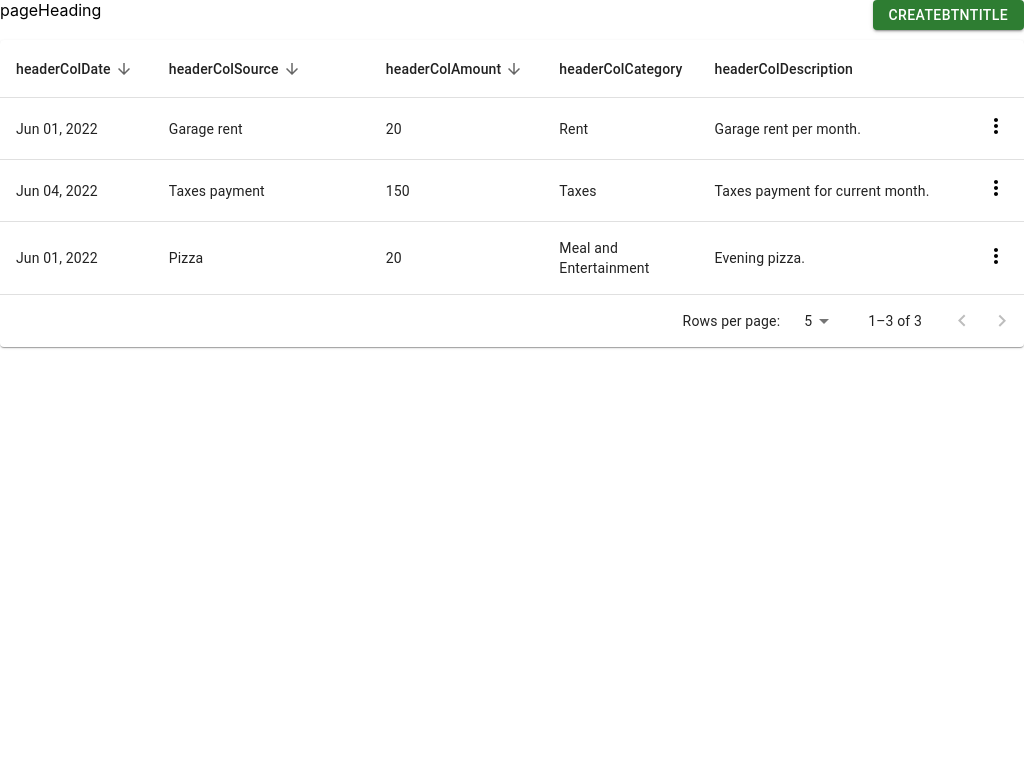
Test: The Expenses page tests › should open modal window after clicking the add button
What coordinates should you click on to do the following:
click the button "createBtnTitle"
I would click on:
 (948, 15)
Its box is [872,0,1023,30].
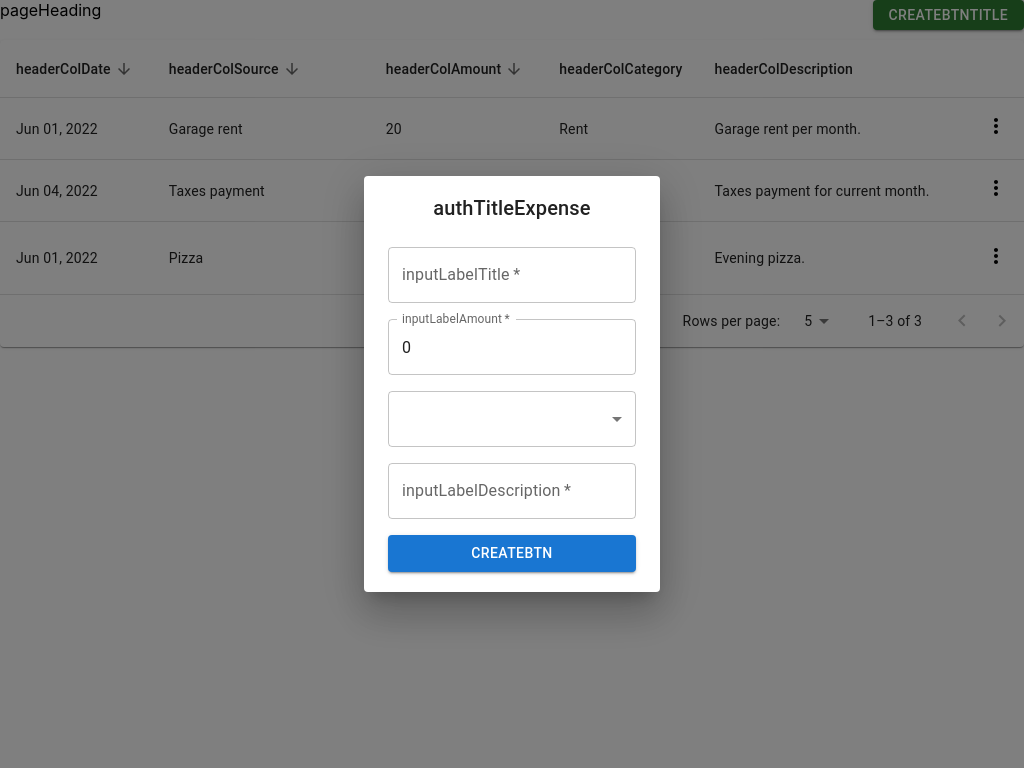
Now the dialog is shown, box [364,176,660,592]
